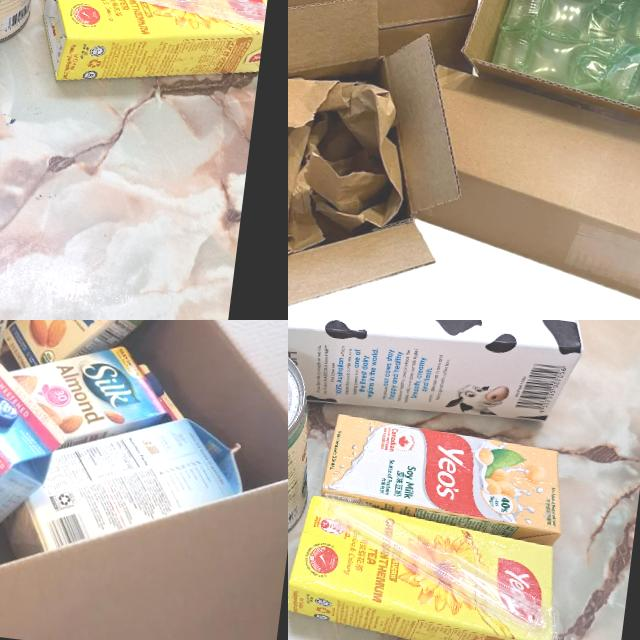caixinha: (0, 397, 250, 584), (288, 492, 570, 640), (318, 412, 574, 546), (288, 320, 593, 431), (1, 332, 194, 464), (34, 0, 270, 106), (0, 337, 77, 640), (0, 320, 191, 387)
lata: (288, 327, 325, 554)
papelão: (376, 57, 640, 312), (288, 0, 487, 320), (451, 0, 640, 145), (288, 0, 499, 118)
tampa plástica: (0, 394, 22, 429), (142, 372, 166, 398)
